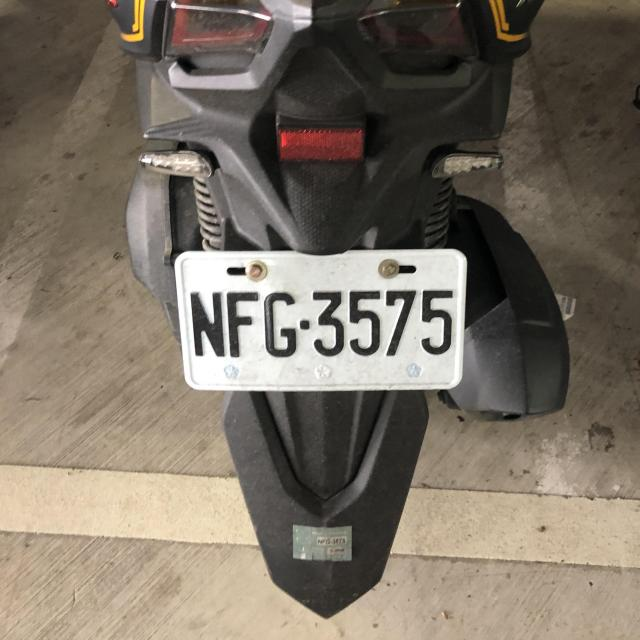W: (172, 241, 471, 398)
